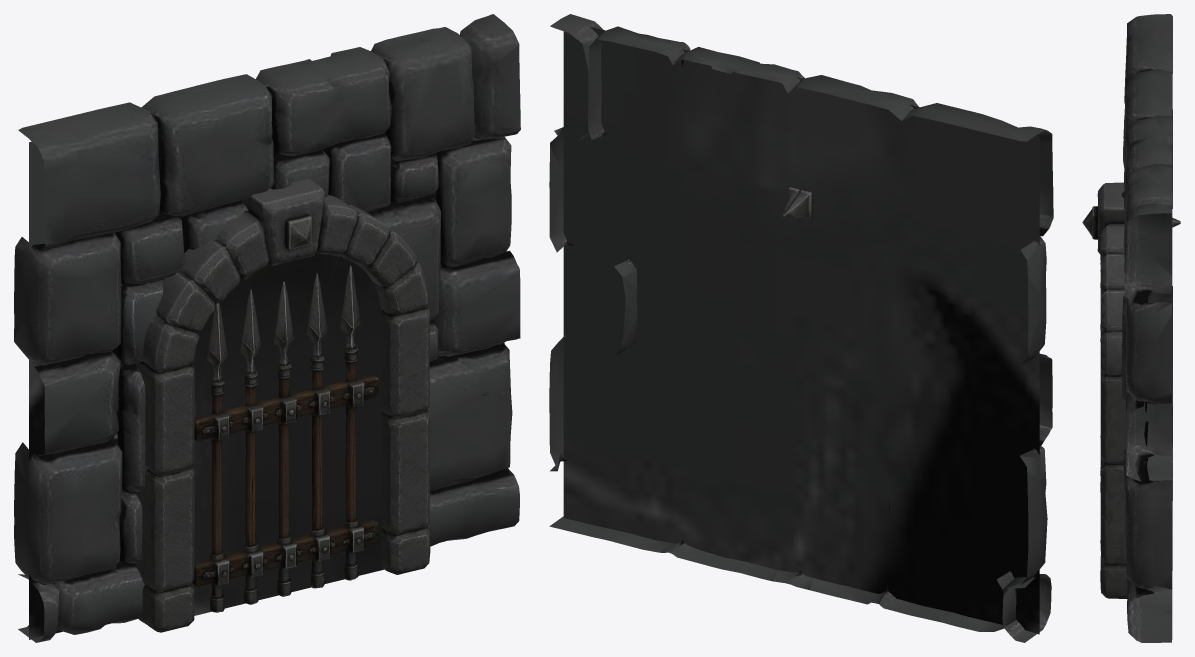
File: Wall_Pikes.fbx
The picture shows the model from 3 angles, left to right: view 1: azimuth 30°, elevation 25°; view 2: azimuth 150°, elevation 25°; view 3: azimuth 270°, elevation 25°; orthographic projection. The views are drawn at different scales.
Parts seen in each view (by area): view 1: Wall_Pikes; view 2: Wall_Pikes; view 3: Wall_Pikes.
Part boxes in pixels (bbox=[...]): Wall_Pikes: bbox=[14, 14, 520, 642]; Wall_Pikes: bbox=[549, 14, 1053, 642]; Wall_Pikes: bbox=[1082, 14, 1180, 642].
Bounding box in the file's own units: 303 × 302 × 62.66.
